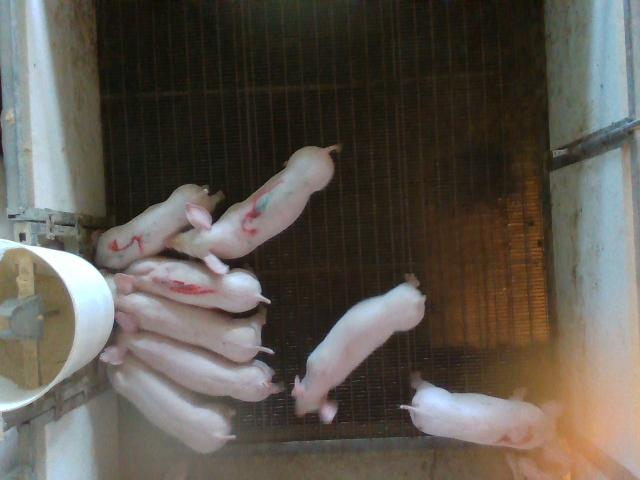pig-1: (125, 256, 270, 312)
pig-2: (400, 372, 569, 469)
pig-3: (168, 145, 338, 274)
pig-5: (96, 185, 224, 269)
